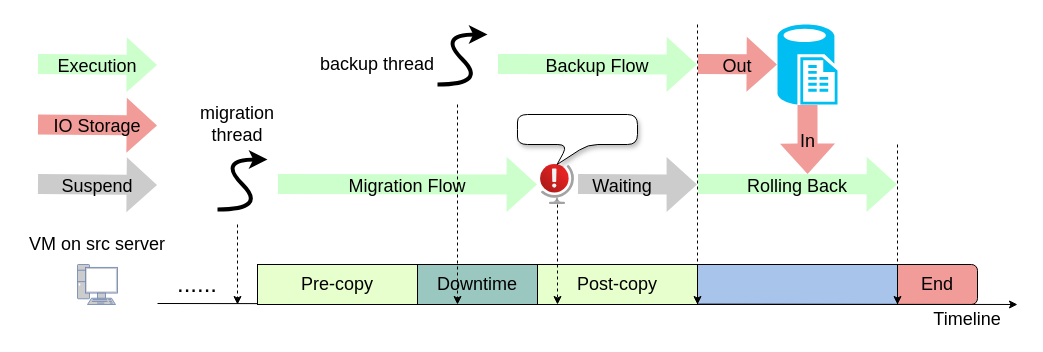
This 1043x352 diagram has some shape labels left out. The centre of each missing label's shape, as x and y in pixels:
"Error" goes at point (578, 141).
"Roll back" goes at point (797, 284).
